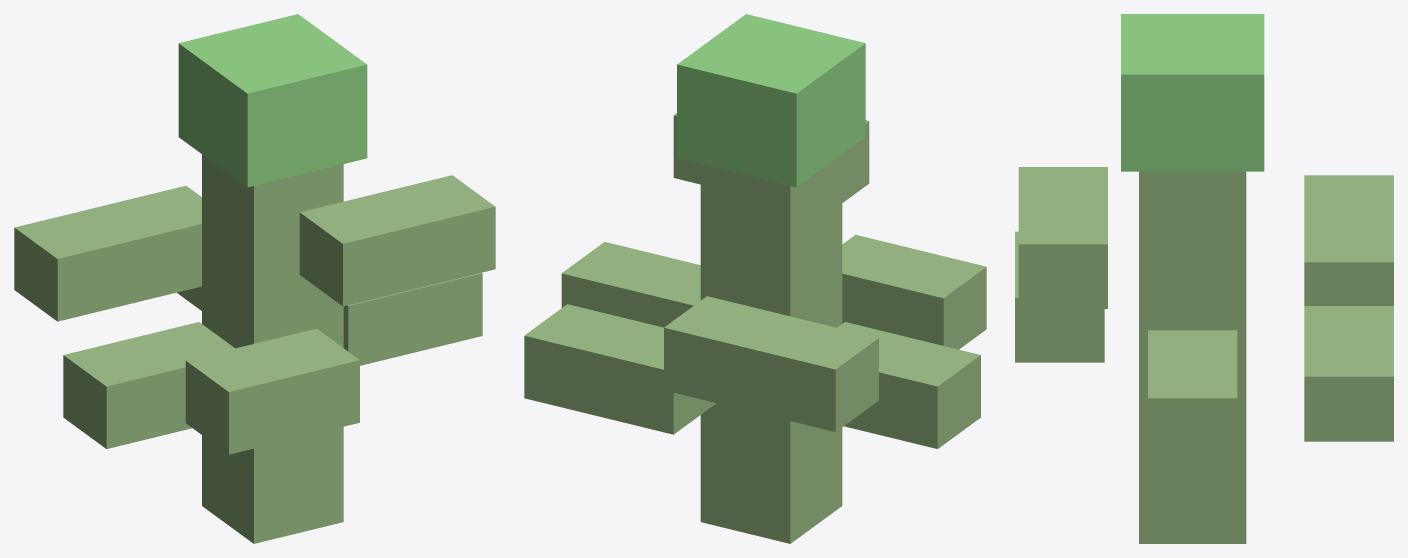
The model's file is Prop_Herb_AMF_Furfern_V4.glb.
3 views of the same model, side by side, from view 1: azimuth 30°, elevation 25°; view 2: azimuth 150°, elevation 25°; view 3: azimuth 270°, elevation 25° (orthographic). The views are drawn at different scales.
Visible parts, largest first — view 1: Prop_Herb_AMF_Furfern_V4; view 2: Prop_Herb_AMF_Furfern_V4; view 3: Prop_Herb_AMF_Furfern_V4.
Part boxes in pixels (box(x1,y1,x2,y2)): Prop_Herb_AMF_Furfern_V4: box(14, 14, 495, 543); Prop_Herb_AMF_Furfern_V4: box(524, 14, 986, 543); Prop_Herb_AMF_Furfern_V4: box(1015, 14, 1393, 543).
Bounding box in the file's own units: 0.2516 × 0.2942 × 0.2117.
